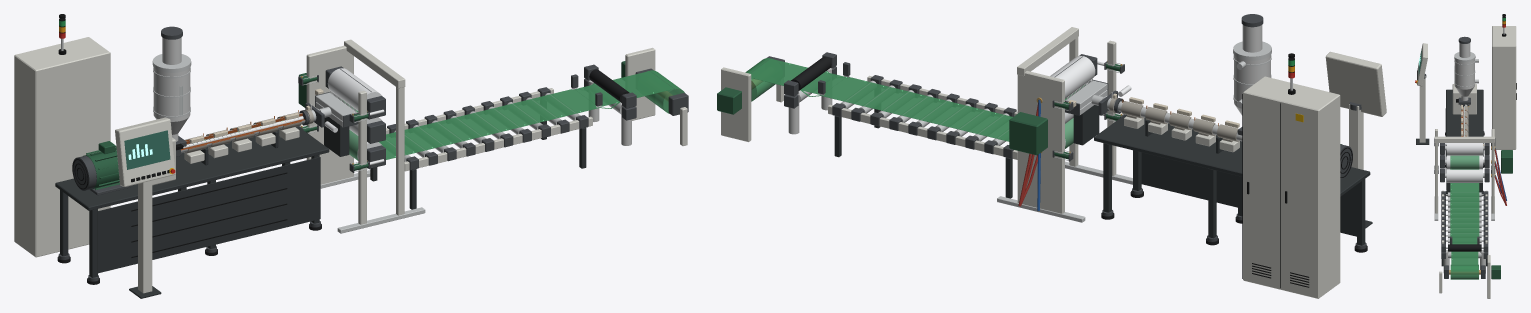
File: sheet-motion.glb
3 renders of one model, left to right at view 1: azimuth 30°, elevation 25°; view 2: azimuth 150°, elevation 25°; view 3: azimuth 270°, elevation 25°, orthographic. The views are drawn at different scales.
Visible parts, largest first — view 1: Extruder, Control cabinet, StackFrame, SheetWeb, Operator panel head, Extruder hopper, RollerTableAndTrim, Operator panel stand, SheetTrimmed, WinderFrame, AdapterAndFeedPipe, TopRoll_body (+5 smaller); view 2: Control cabinet, Extruder, StackFrame, SheetWeb, RollerTableAndTrim, Operator panel head, Extruder hopper, WinderFrame, SheetTrimmed, AdapterAndFeedPipe, TopRoll_body, Operator panel stand (+3 smaller); view 3: Control cabinet, SheetWeb, Extruder, StackFrame, Extruder hopper, SheetTrimmed, BottomRoll_body, MiddleRoll_body, Operator panel stand, TopRoll_body, Winder_body, WinderFrame (+10 smaller).
Part boxes in pixels (box(x1,y1,x2,y2)): Extruder: box(55, 110, 329, 284); Control cabinet: box(14, 37, 110, 257); StackFrame: box(298, 39, 425, 233); SheetWeb: box(341, 89, 599, 160); Operator panel head: box(115, 117, 175, 186); Extruder hopper: box(152, 26, 191, 150); RollerTableAndTrim: box(370, 74, 631, 209); Operator panel stand: box(129, 180, 161, 298); SheetTrimmed: box(575, 70, 682, 106); WinderFrame: box(621, 47, 687, 145); AdapterAndFeedPipe: box(305, 102, 349, 156); TopRoll_body: box(327, 68, 381, 110); Control cabinet: box(1242, 76, 1340, 298); Extruder: box(1094, 97, 1370, 252); StackFrame: box(997, 27, 1132, 222); SheetWeb: box(821, 77, 1085, 148); RollerTableAndTrim: box(788, 62, 1017, 198); Operator panel head: box(1325, 51, 1386, 116); Extruder hopper: box(1233, 14, 1271, 135); WinderFrame: box(717, 67, 783, 141); SheetTrimmed: box(745, 58, 845, 94); AdapterAndFeedPipe: box(1073, 85, 1131, 145); TopRoll_body: box(1050, 56, 1095, 98); Operator panel stand: box(1349, 102, 1372, 228); Control cabinet: box(1492, 26, 1516, 149); SheetWeb: box(1450, 155, 1479, 244); Extruder: box(1445, 84, 1484, 196); StackFrame: box(1434, 129, 1512, 220); Extruder hopper: box(1454, 36, 1478, 104); SheetTrimmed: box(1451, 251, 1478, 271); BottomRoll_body: box(1445, 169, 1484, 182); MiddleRoll_body: box(1445, 155, 1484, 169); Operator panel stand: box(1416, 74, 1429, 144); TopRoll_body: box(1445, 143, 1484, 155); Winder_body: box(1450, 264, 1478, 279); WinderFrame: box(1439, 255, 1500, 298).
Size of the model in its own units: 6.54 by 2.34 by 1.69.
